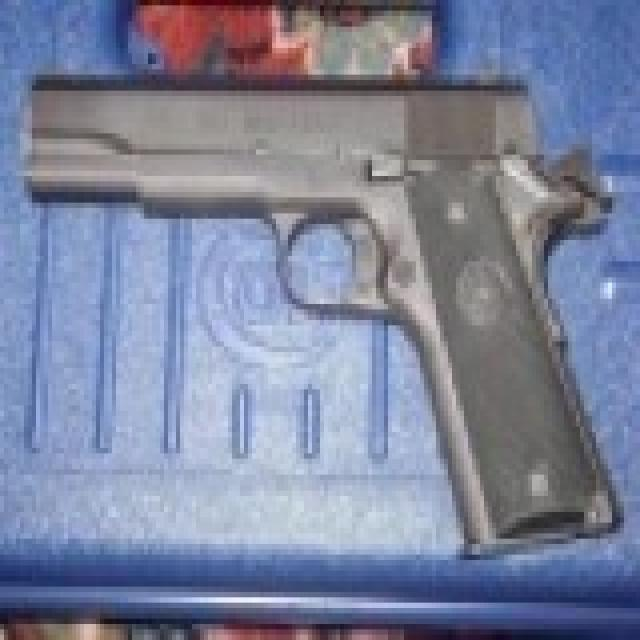Gun: (25, 47, 604, 558)
